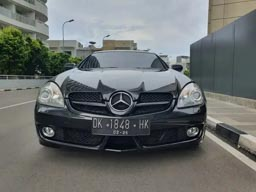plat: (93, 117, 153, 129)
